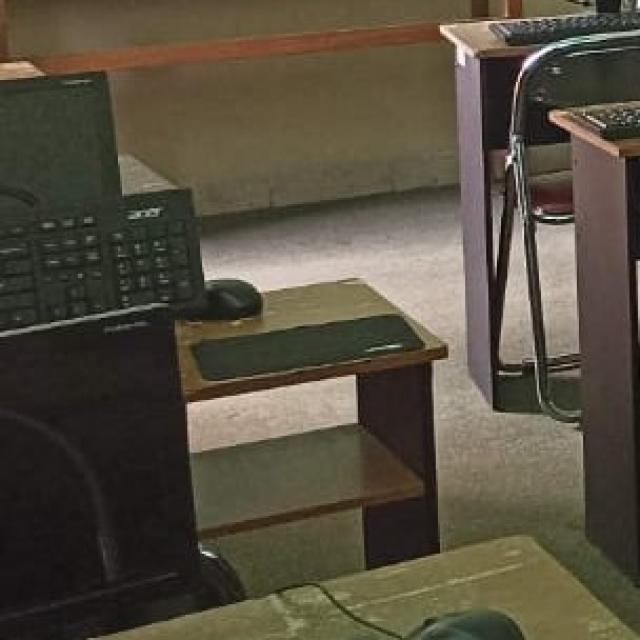offscreen: (0, 305, 179, 639)
